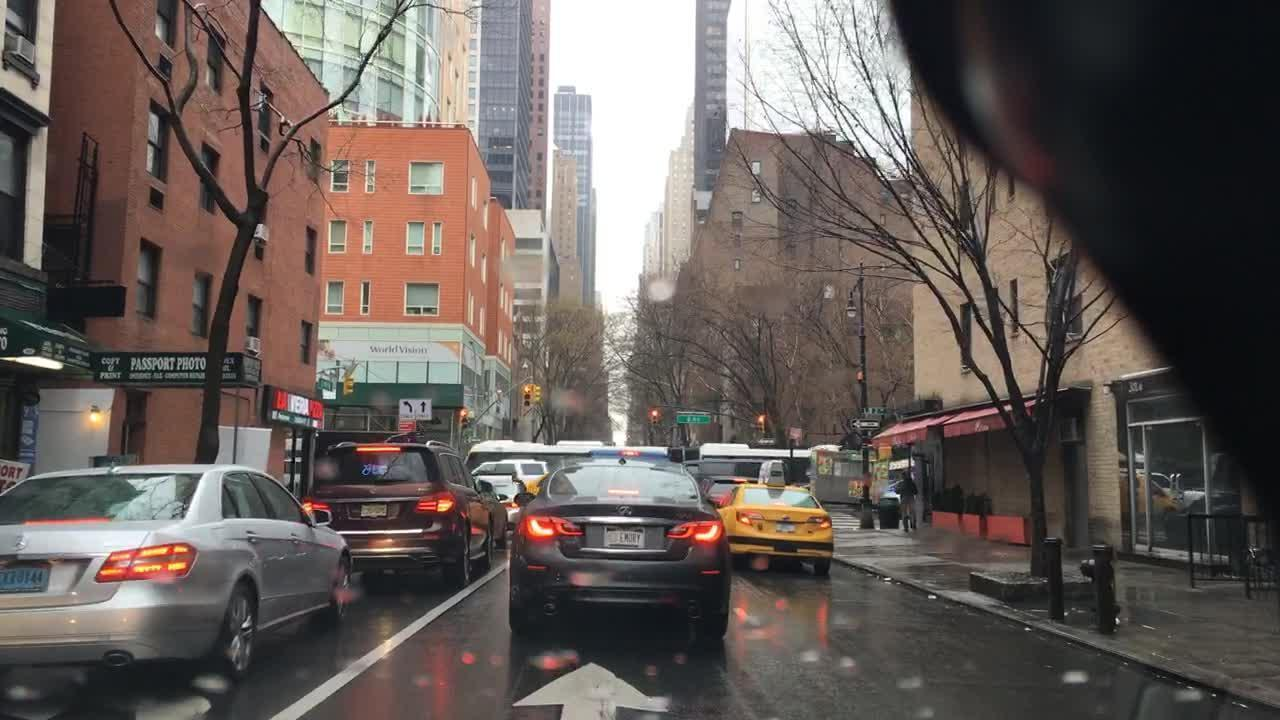Infiniti: (616, 504, 635, 518)
Mitsubishi: (9, 533, 31, 554)
